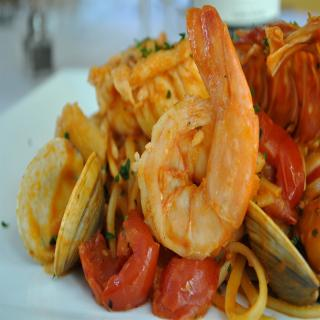Pasta: (45, 0, 294, 320)
